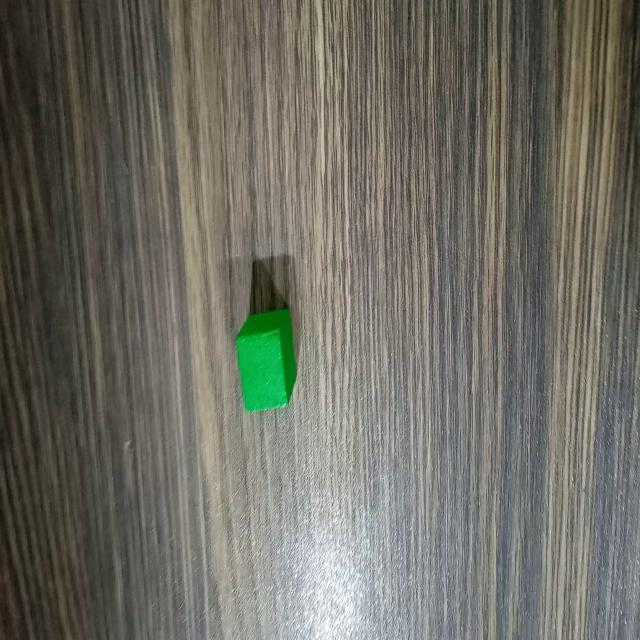cube: (234, 304, 299, 418)
